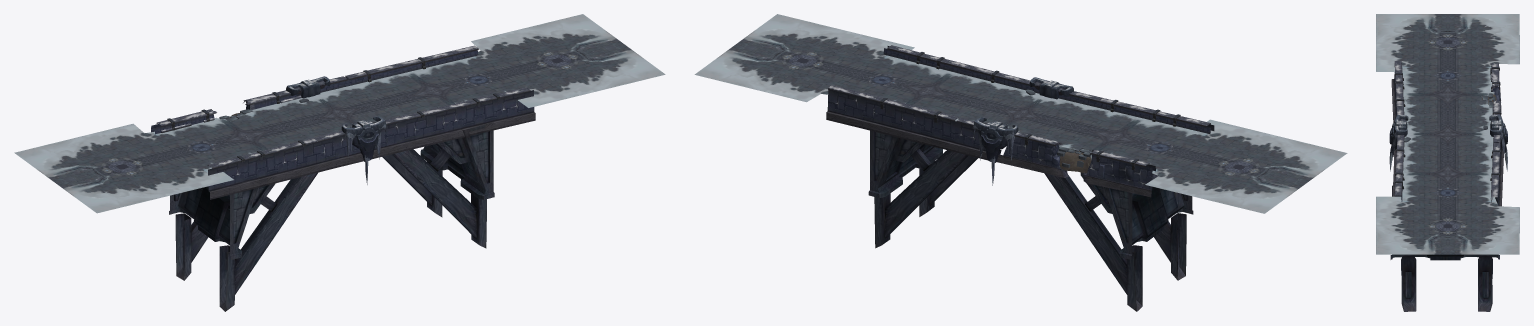
Rendered from pvp_qiao.FBX.
The picture shows the model from 3 angles, left to right: view 1: azimuth 30°, elevation 25°; view 2: azimuth 150°, elevation 25°; view 3: azimuth 270°, elevation 25°; orthographic projection. The views are drawn at different scales.
Visible parts, largest first — view 1: pvp_dimian, pvp_qiao01; view 2: pvp_dimian, pvp_qiao01; view 3: pvp_dimian, pvp_qiao01.
Part boxes in pixels (bbox=[...]): pvp_dimian: bbox=[14, 14, 665, 213]; pvp_qiao01: bbox=[151, 45, 535, 311]; pvp_dimian: bbox=[694, 14, 1347, 213]; pvp_qiao01: bbox=[826, 45, 1214, 311]; pvp_dimian: bbox=[1376, 14, 1519, 254]; pvp_qiao01: bbox=[1389, 61, 1507, 311].
Bounding box in the file's own units: 1850 × 467 × 490.
